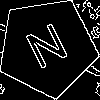N: (22, 22, 76, 79)
